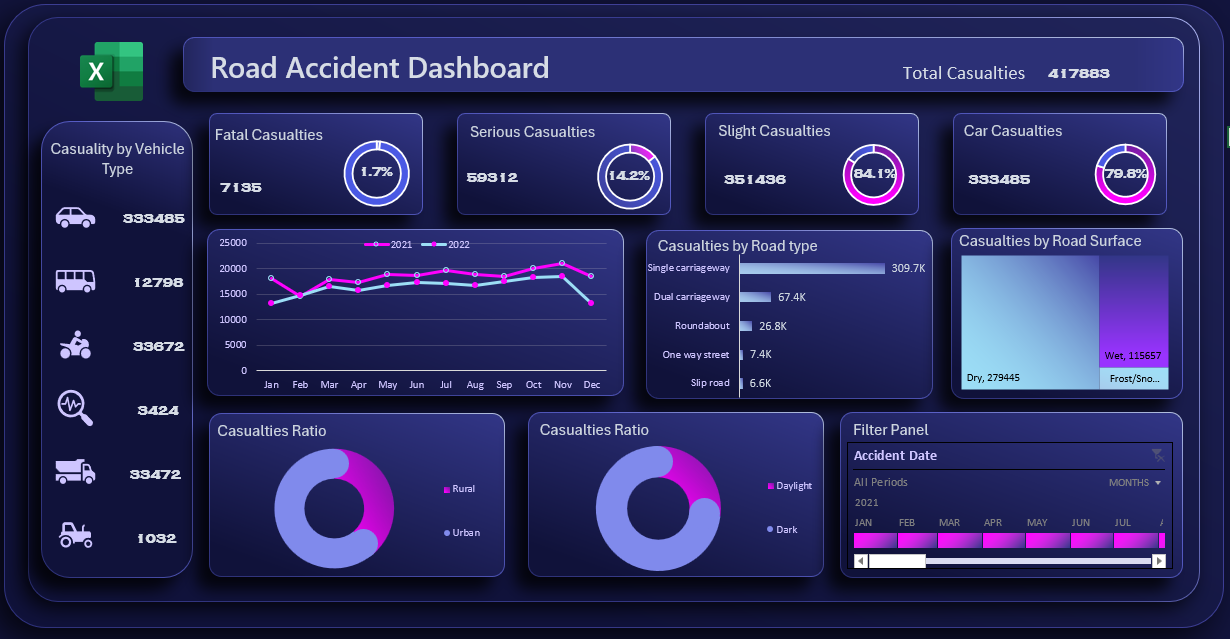

This screenshot's page, from the dashboard's own definition file:
{"tool":"tableau","page":{"name":"Dashboard 1","canvas":[1000,1000],"units":"permille","ordinal":0},"visuals":[{"type":"image","param":"C:/Users/nikhi/Downloads/Road_acci (1).png","box":[7.1,13.5,985.7,973]},{"type":"text","box":[283.4,62.5,324.4,89.5]},{"type":"parameter","param":"[Parameters].[Current Year  (copy)_1135282662387713]","box":[699.6,62.5,86.5,77.7]},{"type":"parameter","param":"[Parameters].[Parameter 2]","box":[791.4,62.5,132.8,74.3]},{"type":"parameter","param":"[Parameters].[Parameter 1]","box":[605.2,64.2,90,74.3]},{"type":"text","box":[286.1,167.2,199.6,50.7]},{"type":"worksheet","title":"Total Accidents","mark":"Automatic","box":[73.5,196,111.1,118.2]},{"type":"worksheet","title":"Accident Sparklines","mark":"Automatic","rows":["CY Accidents (copy)_1135282664075267","Calculation_1135282663071746"],"cols":["Accident Date"],"box":[184.6,197.6,66.3,118.2]},{"type":"worksheet","title":"Vehicle type icons","mark":"Shape","box":[280.8,209.5,637.2,59.1]},{"type":"worksheet","title":"Vehicle type KPI","mark":"Automatic","box":[280.8,256.8,637.2,77.7]},{"type":"worksheet","title":"Total Casualties Sparklines ","mark":"Automatic","rows":["CY Casualties (copy)_1135282998112262","Calculation_1135282996146181"],"cols":["Accident Date"],"box":[185.4,342.9,69.5,126.7]},{"type":"worksheet","title":"Total Casualties","mark":"Automatic","box":[72.6,346.3,115.6,126.7]},{"type":"text","box":[279,348,182.7,50.7]},{"type":"text","box":[484.9,348,174.7,45.6]},{"type":"text","box":[683.6,354.7,185.4,50.7]},{"type":"worksheet","title":"Road Surface","mark":"Pie","rows":["Calculation_1434902018752516","Calculation_1434902018785286"],"box":[477.7,388.5,189,241.6]},{"type":"worksheet","title":"weather cond","mark":"Pie","rows":["Calculation_1434902018752516","Calculation_1434902018785286"],"box":[279,391.9,185.4,233.1]},{"type":"worksheet","title":"Location","mark":"Automatic","rows":["Latitude"],"cols":["Longitude"],"box":[681.8,398.7,240.6,535.5]},{"type":"worksheet","title":"Fatal Sparklines","mark":"Automatic","rows":["CY Fatal Casualties (copy)_1135283000508425","Calculation_1135282999517192"],"cols":["Accident Date"],"box":[187.2,493.2,66,135.1]},{"type":"worksheet","title":"Fatal Casualties ","mark":"Automatic","box":[76.5,494.9,114.8,135.1]},{"type":"worksheet","title":"Serious Casualties","mark":"Automatic","box":[73.1,647,131.9,133.4]},{"type":"worksheet","title":"Serious Sparklines","mark":"Automatic","rows":["CY Serious Casualties  (copy)_1135283008118795","CY Fatal Casualties (copy)_1135283002765322"],"cols":["Accident Date"],"box":[189,650.3,64.2,133.4]},{"type":"text","box":[280.8,650.3,186.3,37.2]},{"type":"worksheet","title":"Road type","mark":"Automatic","rows":["Road_Type"],"cols":["Calculation_1135282996146181"],"box":[279,687.5,384.1,246.6]},{"type":"worksheet","title":"Slight Sparklines","mark":"Automatic","rows":["CY Slight Casualties  (copy)_1135283010957326","CY Fatal Casualties (copy)_1135283009568781"],"cols":["Accident Date"],"box":[191.6,800.7,61.5,135.1]},{"type":"worksheet","title":"Slight Casualties","mark":"Automatic","box":[73.1,804.1,121.2,130.1]}]}

Visuals, with their boxes on the dashboard's canvas, which has no fixed pixel size, in thousandths of its width and height (x1, y1, x2, y2). These are canvas units, not pixel positions in the 1230x639 screenshot, which may show the page scaled, cropped or inside an application window:
image: BBox(7, 14, 993, 986)
text: BBox(283, 62, 608, 152)
parameter: BBox(700, 62, 786, 140)
parameter: BBox(791, 62, 924, 137)
parameter: BBox(605, 64, 695, 138)
text: BBox(286, 167, 486, 218)
"Total Accidents" worksheet: BBox(74, 196, 185, 314)
"Accident Sparklines" worksheet: BBox(185, 198, 251, 316)
"Vehicle type icons" worksheet (Shape marks): BBox(281, 210, 918, 269)
"Vehicle type KPI" worksheet: BBox(281, 257, 918, 334)
"Total Casualties Sparklines " worksheet: BBox(185, 343, 255, 470)
"Total Casualties" worksheet: BBox(73, 346, 188, 473)
text: BBox(279, 348, 462, 399)
text: BBox(485, 348, 660, 394)
text: BBox(684, 355, 869, 405)
"Road Surface" worksheet (Pie marks): BBox(478, 388, 667, 630)
"weather cond" worksheet (Pie marks): BBox(279, 392, 464, 625)
"Location" worksheet: BBox(682, 399, 922, 934)
"Fatal Sparklines" worksheet: BBox(187, 493, 253, 628)
"Fatal Casualties " worksheet: BBox(76, 495, 191, 630)
"Serious Casualties" worksheet: BBox(73, 647, 205, 780)
"Serious Sparklines" worksheet: BBox(189, 650, 253, 784)
text: BBox(281, 650, 467, 688)
"Road type" worksheet: BBox(279, 688, 663, 934)
"Slight Sparklines" worksheet: BBox(192, 801, 253, 936)
"Slight Casualties" worksheet: BBox(73, 804, 194, 934)
